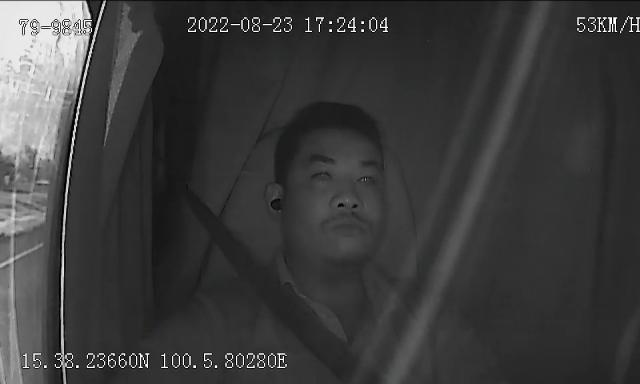SafeDriving: (350, 162, 385, 191), (306, 158, 338, 188)
Seatbelt: (173, 173, 374, 384)
